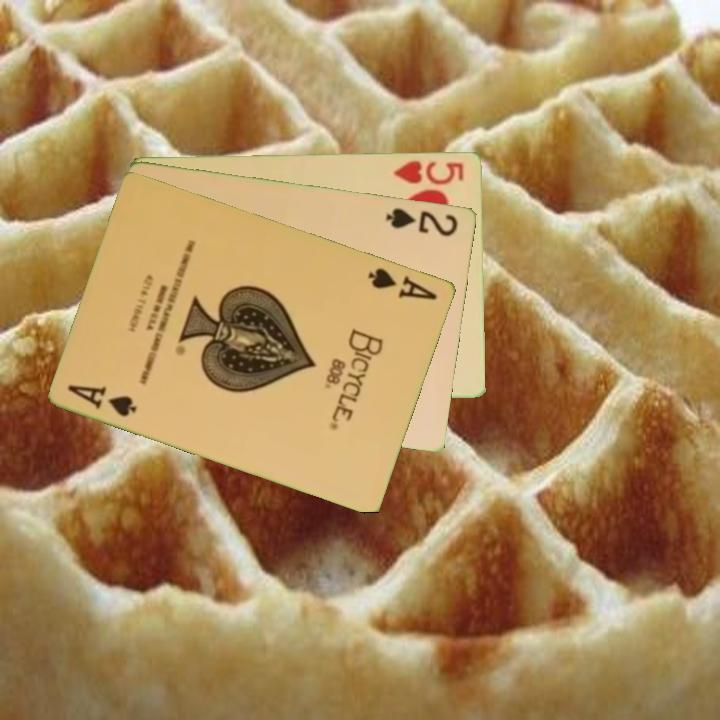2s: (382, 204, 461, 239)
5h: (391, 157, 467, 187)
As: (64, 380, 141, 420), (365, 264, 441, 303)
